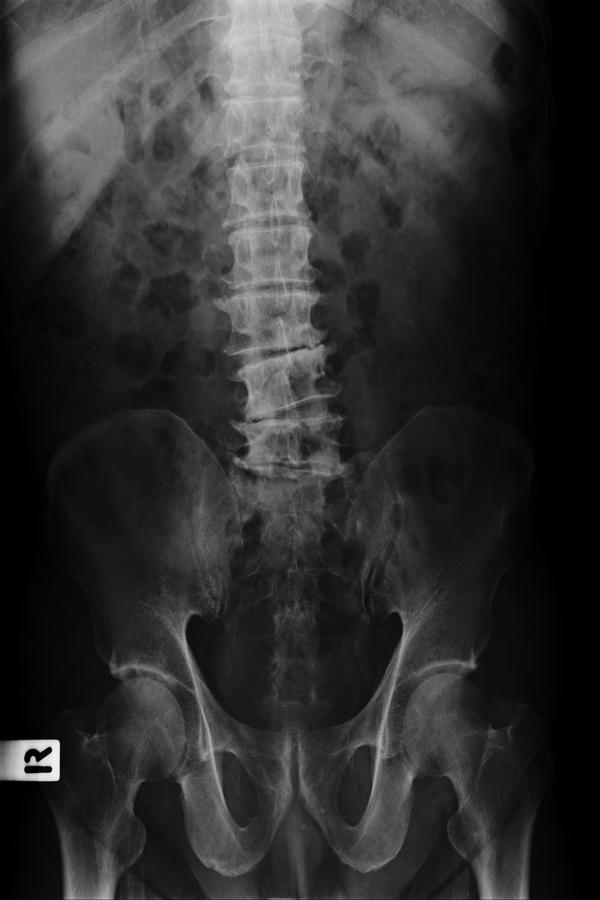lumbar scoliosis: (214, 142, 350, 525)
